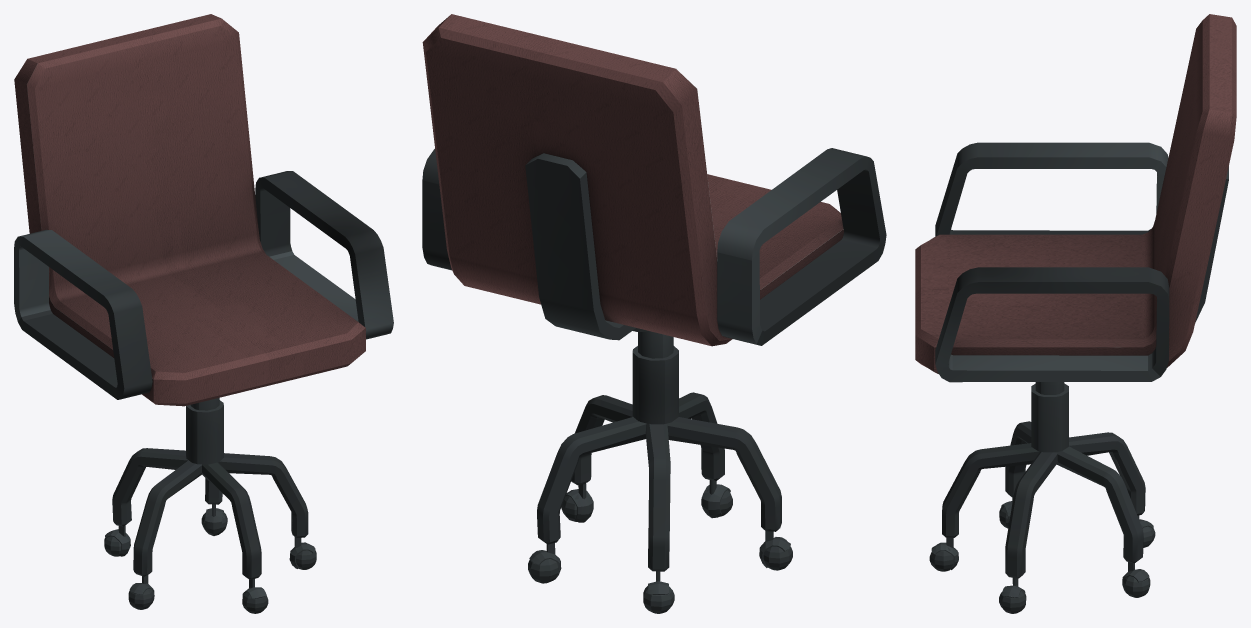
The model's file is chair.fbx.
The picture shows the model from 3 angles, left to right: view 1: azimuth 30°, elevation 25°; view 2: azimuth 150°, elevation 25°; view 3: azimuth 270°, elevation 25°; orthographic projection. The views are drawn at different scales.
Visible parts, largest first — view 1: body, pCube5, pCube4, pCube11, pCube3; view 2: body, pCube5, pCube11, pCube12, pCube3, pCube4, polySurface1, polySurface3; view 3: body, pCube4, pCube11, pCube5, pCube3, pCube12, polySurface6, polySurface4.
Part boxes in pixels (left/top/right/bottom): body: left=14, top=14, right=365, bottom=406; pCube5: left=14, top=229, right=152, bottom=399; pCube4: left=255, top=171, right=393, bottom=339; pCube11: left=112, top=448, right=308, bottom=579; pCube3: left=186, top=397, right=223, bottom=464; body: left=422, top=14, right=843, bottom=346; pCube5: left=717, top=148, right=886, bottom=345; pCube11: left=537, top=392, right=781, bottom=571; pCube12: left=525, top=153, right=635, bottom=340; pCube3: left=632, top=331, right=678, bottom=424; pCube4: left=422, top=149, right=452, bottom=270; polySurface1: left=701, top=480, right=730, bottom=518; polySurface3: left=565, top=483, right=593, bottom=522; body: left=915, top=14, right=1236, bottom=373; pCube4: left=935, top=267, right=1169, bottom=382; pCube11: left=942, top=421, right=1145, bottom=578; pCube5: left=935, top=142, right=1168, bottom=236; pCube3: left=1031, top=382, right=1068, bottom=452; pCube12: left=1195, top=166, right=1228, bottom=323; polySurface6: left=1123, top=576, right=1150, bottom=597; polySurface4: left=999, top=590, right=1026, bottom=613.
Size of the model in its own units: 5.21 by 8.82 by 5.04.
Materials: 2 (2 with a texture image).
